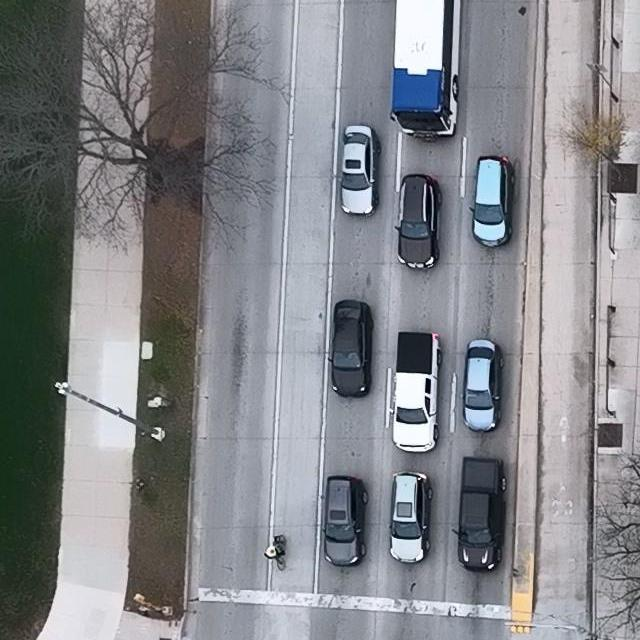car: (389, 0, 462, 143), (388, 330, 443, 453), (452, 457, 507, 572), (394, 174, 442, 271), (326, 300, 372, 398), (321, 475, 368, 565), (469, 156, 514, 249), (389, 471, 434, 564), (339, 124, 383, 217), (462, 338, 504, 433)
